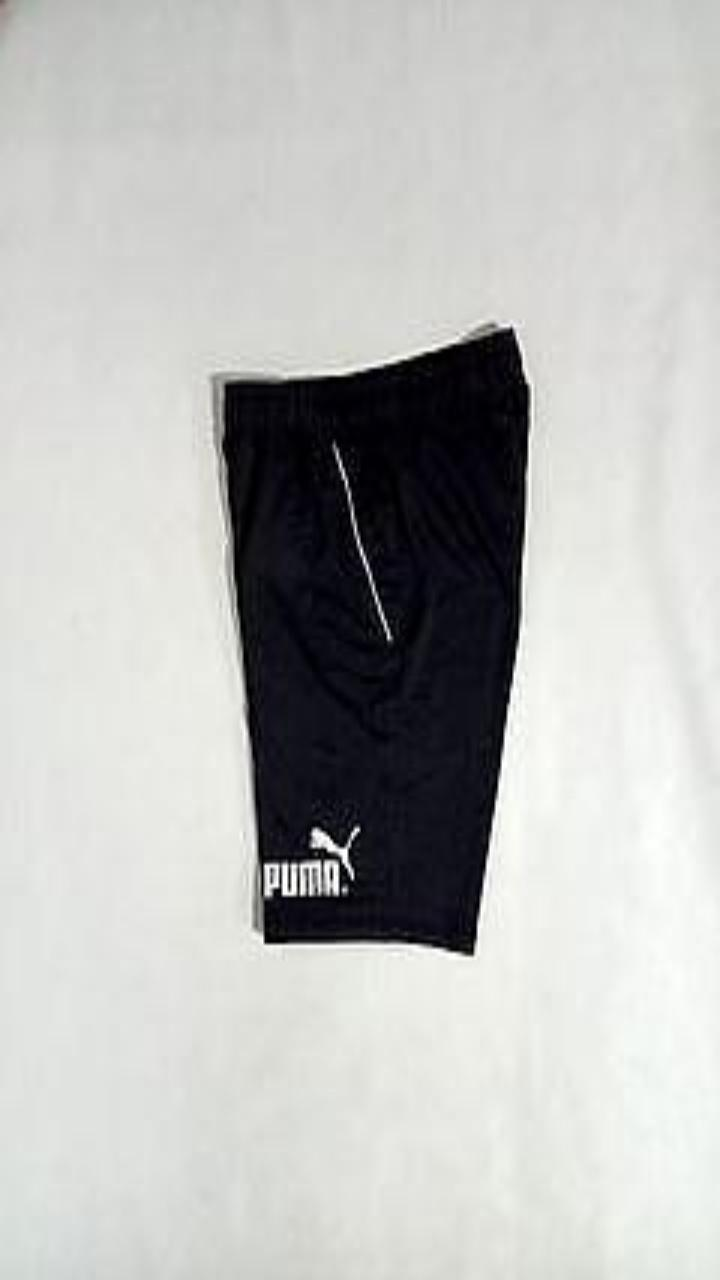Shorts: (222, 327, 529, 952)
